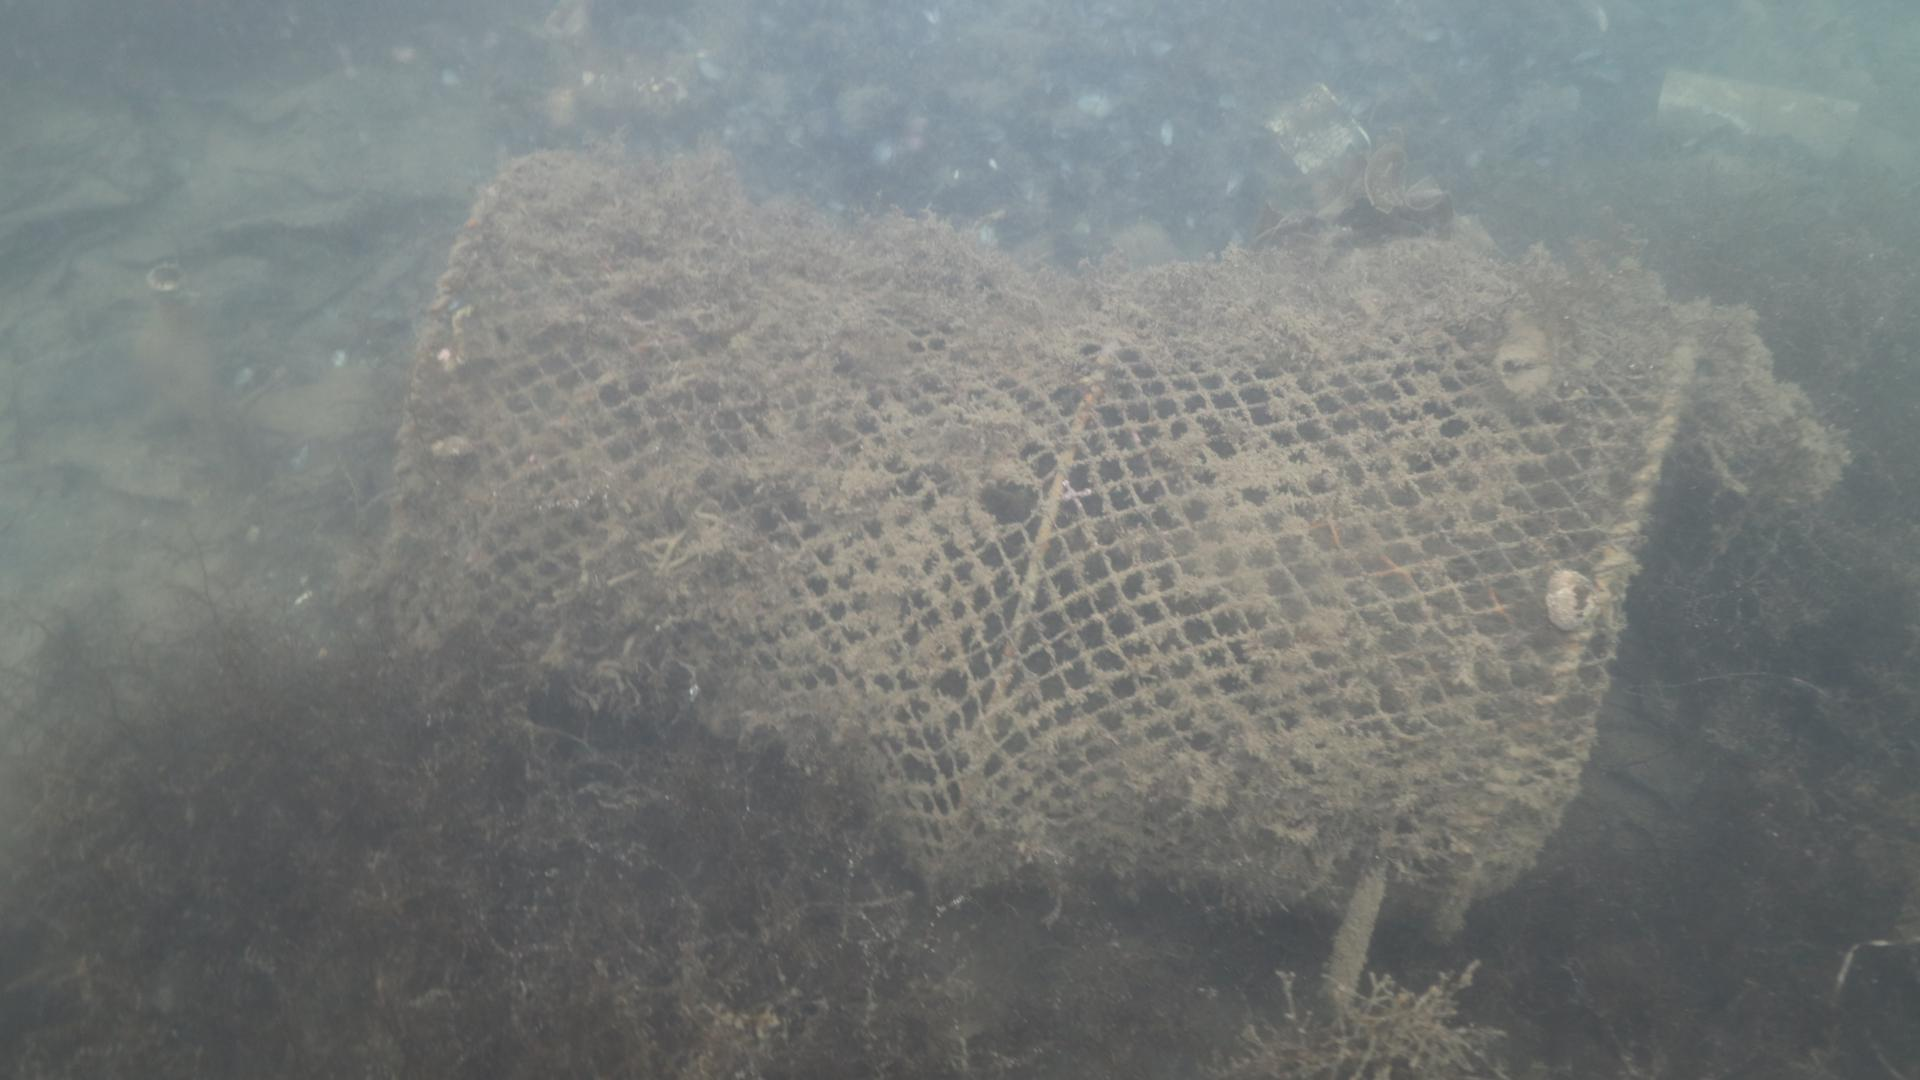spring fish trap: (381, 142, 1713, 923)
